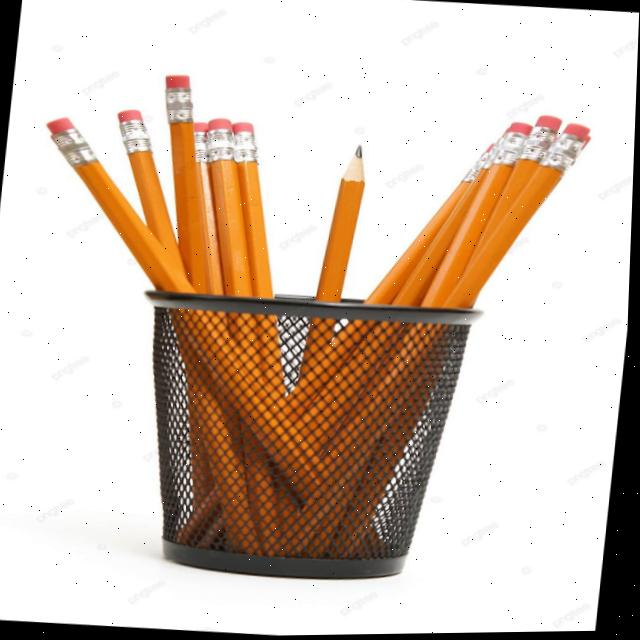pencil: (37, 108, 371, 544), (267, 118, 606, 545), (322, 111, 573, 562), (331, 119, 541, 492), (106, 103, 271, 565), (150, 65, 253, 572), (222, 119, 313, 558), (204, 112, 288, 562), (276, 133, 379, 490)
